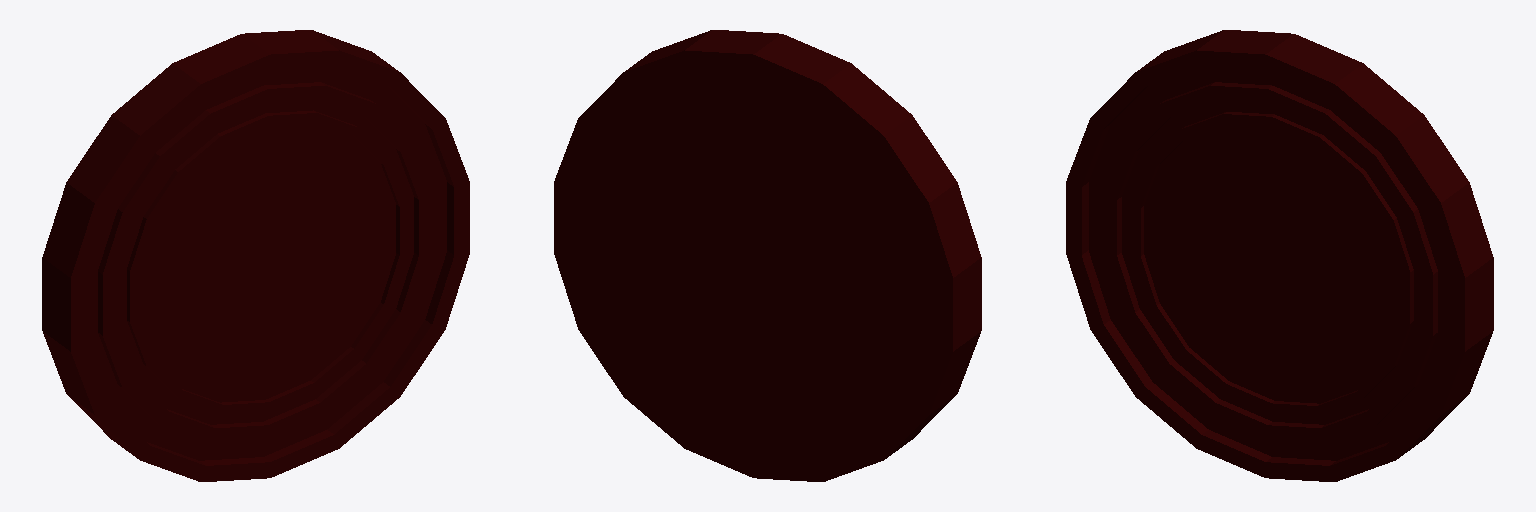
The model's file is checker_red.obj.
3 views of the same model, side by side, from view 1: azimuth 30°, elevation 25°; view 2: azimuth 150°, elevation 25°; view 3: azimuth 330°, elevation 25° (orthographic).
Parts seen in each view (by area): view 1: Object.1, Object.2, Object.3, Object.4; view 2: Object.1, Object.2, Object.3, Object.4; view 3: Object.1, Object.2, Object.3, Object.4.
Boxes of the visible parts, x1,y1,x2,y2 form: Object.1: [86, 67, 446, 460]; Object.2: [42, 30, 469, 481]; Object.3: [98, 82, 432, 443]; Object.4: [127, 110, 407, 412]; Object.1: [559, 58, 944, 471]; Object.2: [554, 30, 981, 481]; Object.3: [590, 87, 914, 445]; Object.4: [620, 116, 889, 414]; Object.1: [1089, 67, 1449, 460]; Object.2: [1066, 30, 1493, 481]; Object.3: [1103, 82, 1437, 443]; Object.4: [1133, 112, 1413, 414].
Size of the model in its own units: 70.05 by 71.13 by 8.68.